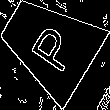P_NW: (20, 15, 78, 74)
